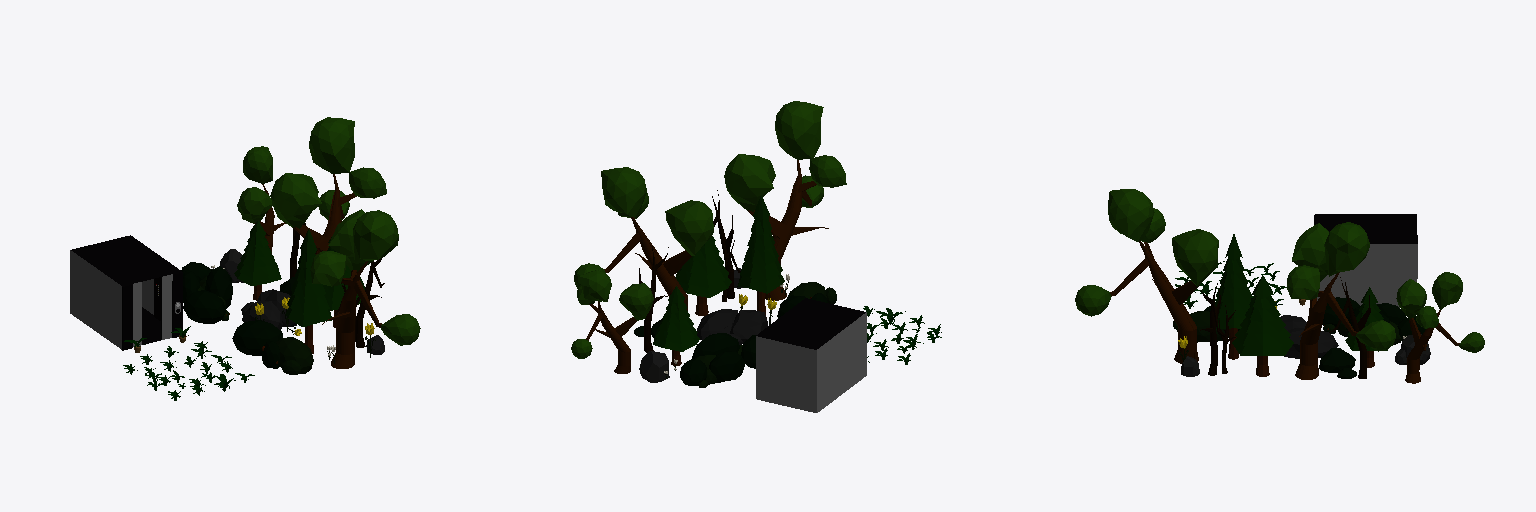
Rendered from my_assets.obj.
The picture shows the model from 3 angles: view 1: azimuth 30°, elevation 25°; view 2: azimuth 150°, elevation 25°; view 3: azimuth 270°, elevation 25°; orthographic projection.
Visible parts, largest first — view 1: Plane.016, Cylinder.008_Cylinder.006, Cylinder.002, Icosphere.001_Icosphere.004, Icosphere, Cylinder.005_Cylinder.003, Cylinder.007_Cylinder.005, Cylinder, Icosphere.002, Cylinder.009_Cylinder.007, Cylinder.006_Cylinder.004; view 2: Plane.016, Cylinder.008_Cylinder.006, Cylinder.002, Cylinder.007_Cylinder.005, Icosphere, Cylinder.005_Cylinder.003, Cylinder.006_Cylinder.004, Cylinder, Icosphere.002, Icosphere.001_Icosphere.004, Icosphere.005_Cube.005, Cylinder.003_Cylinder.001 (+1 smaller); view 3: Cylinder.008_Cylinder.006, Cylinder.002, Plane.016, Cylinder.007_Cylinder.005, Cylinder.006_Cylinder.004, Cylinder.005_Cylinder.003, Icosphere, Icosphere.002, Icosphere.003, Cylinder, Cylinder.003_Cylinder.001, Cylinder.009_Cylinder.007 (+1 smaller).
Boxes of the visible parts, box(x1,y1,x2,y2) form: Plane.016: box(70, 235, 182, 350); Cylinder.008_Cylinder.006: box(310, 209, 420, 368); Cylinder.002: box(270, 117, 386, 310); Icosphere.001_Icosphere.004: box(232, 320, 313, 374); Icosphere: box(181, 262, 232, 323); Cylinder.005_Cylinder.003: box(285, 229, 331, 353); Cylinder.007_Cylinder.005: box(237, 146, 285, 253); Cylinder: box(234, 221, 281, 300); Icosphere.002: box(241, 289, 296, 329); Cylinder.009_Cylinder.007: box(351, 258, 384, 347); Cylinder.006_Cylinder.004: box(323, 237, 364, 327); Plane.016: box(756, 298, 866, 412); Cylinder.008_Cylinder.006: box(724, 101, 846, 300); Cylinder.002: box(574, 167, 713, 310); Cylinder.007_Cylinder.005: box(571, 270, 653, 373); Icosphere: box(680, 333, 755, 387); Cylinder.005_Cylinder.003: box(737, 195, 784, 317); Cylinder.006_Cylinder.004: box(675, 236, 731, 315); Cylinder: box(653, 286, 699, 365); Icosphere.002: box(697, 309, 767, 344); Icosphere.001_Icosphere.004: box(777, 282, 836, 318); Icosphere.005_Cube.005: box(639, 351, 669, 382); Cylinder.003_Cylinder.001: box(639, 246, 668, 352); Cylinder.008_Cylinder.006: box(1075, 189, 1218, 363); Cylinder.002: box(1287, 222, 1395, 379); Plane.016: box(1314, 214, 1417, 307); Cylinder.007_Cylinder.005: box(1396, 272, 1484, 383); Cylinder.006_Cylinder.004: box(1232, 275, 1293, 376); Cylinder.005_Cylinder.003: box(1215, 234, 1251, 359); Icosphere: box(1322, 297, 1425, 344); Icosphere.002: box(1280, 315, 1338, 358); Icosphere.003: box(1319, 348, 1356, 378); Cylinder: box(1345, 287, 1387, 367); Cylinder.003_Cylinder.001: box(1329, 277, 1370, 378); Cylinder.009_Cylinder.007: box(1200, 283, 1224, 375).
Bounding box in the file's own units: 20.29 × 11.85 × 25.34.